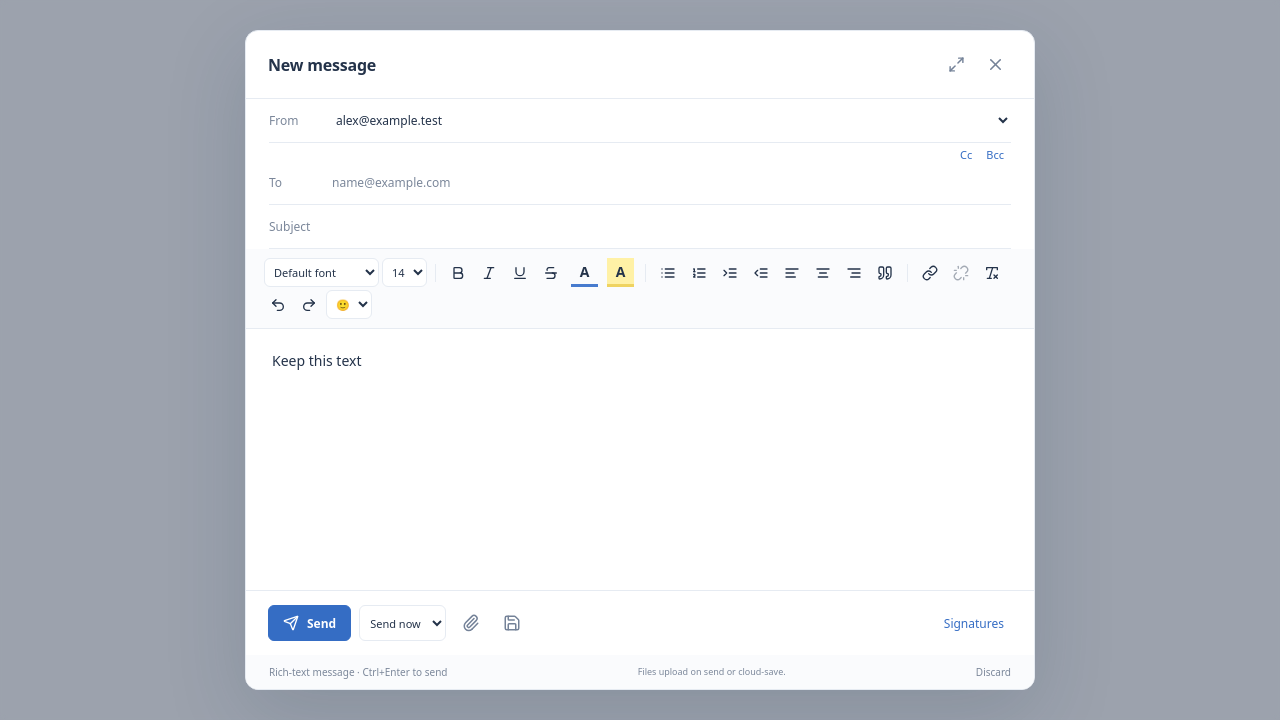
Test: composer regression review › keeps editing open when a final draft save fails
This screenshot has width=1280, height=720.
Click the button named "Close dialog". click: {"x": 996, "y": 64}
box: [979, 48, 1012, 81]
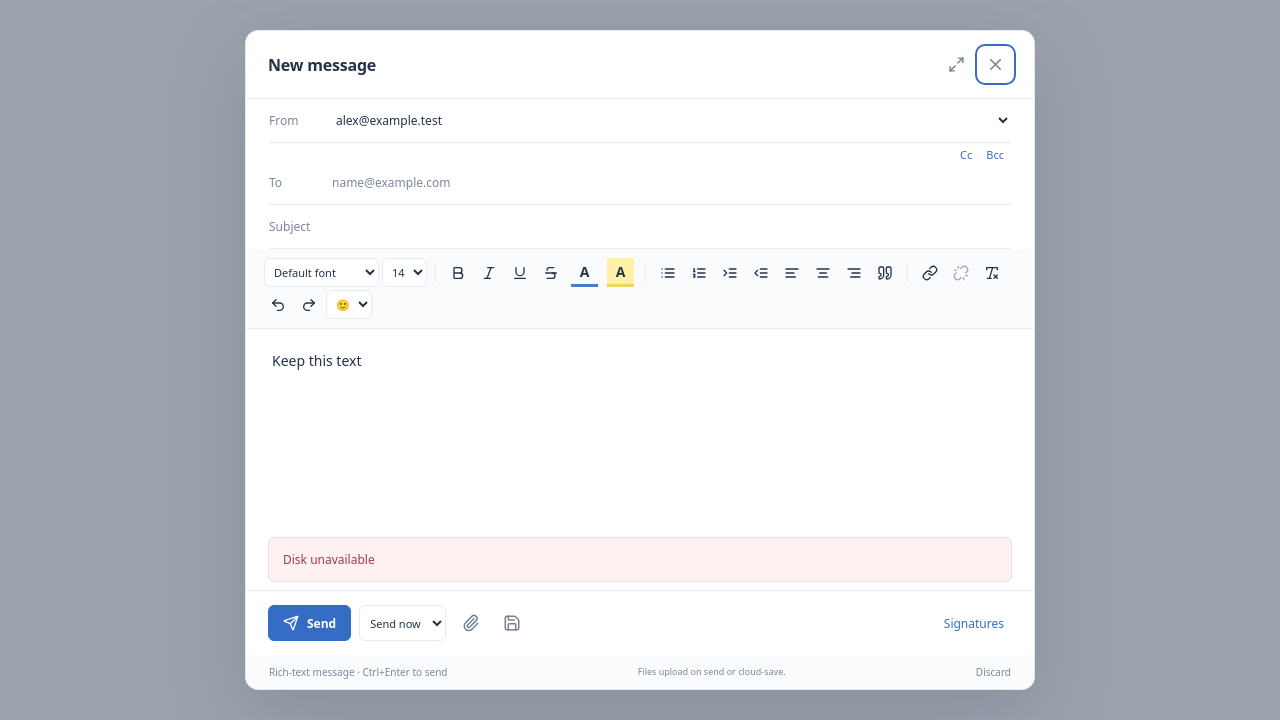
Result: the text "Disk unavailable" is shown at [268, 537, 1012, 582]
